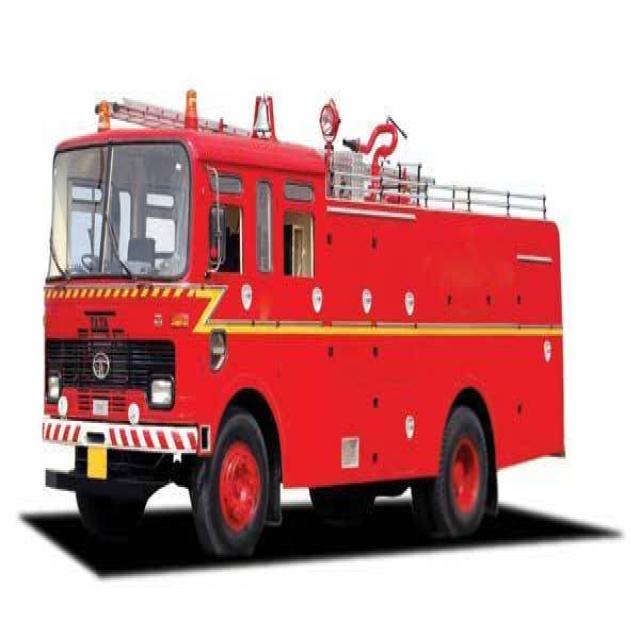emergency: (41, 93, 564, 556)
